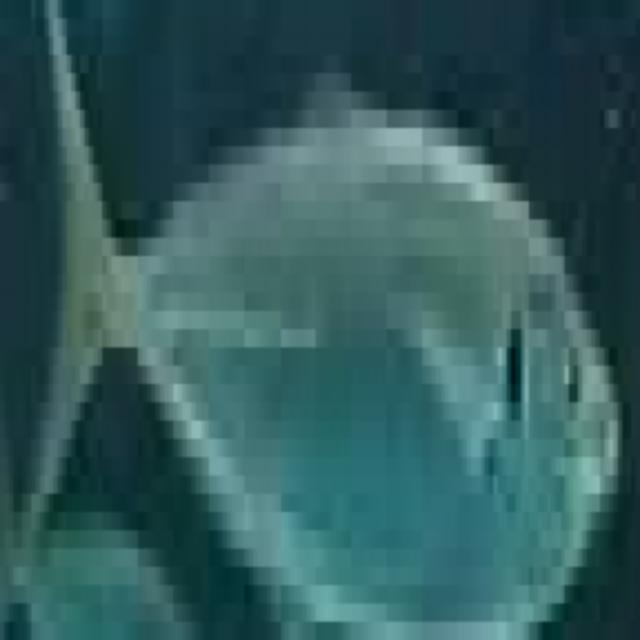fish: (4, 18, 640, 640)
